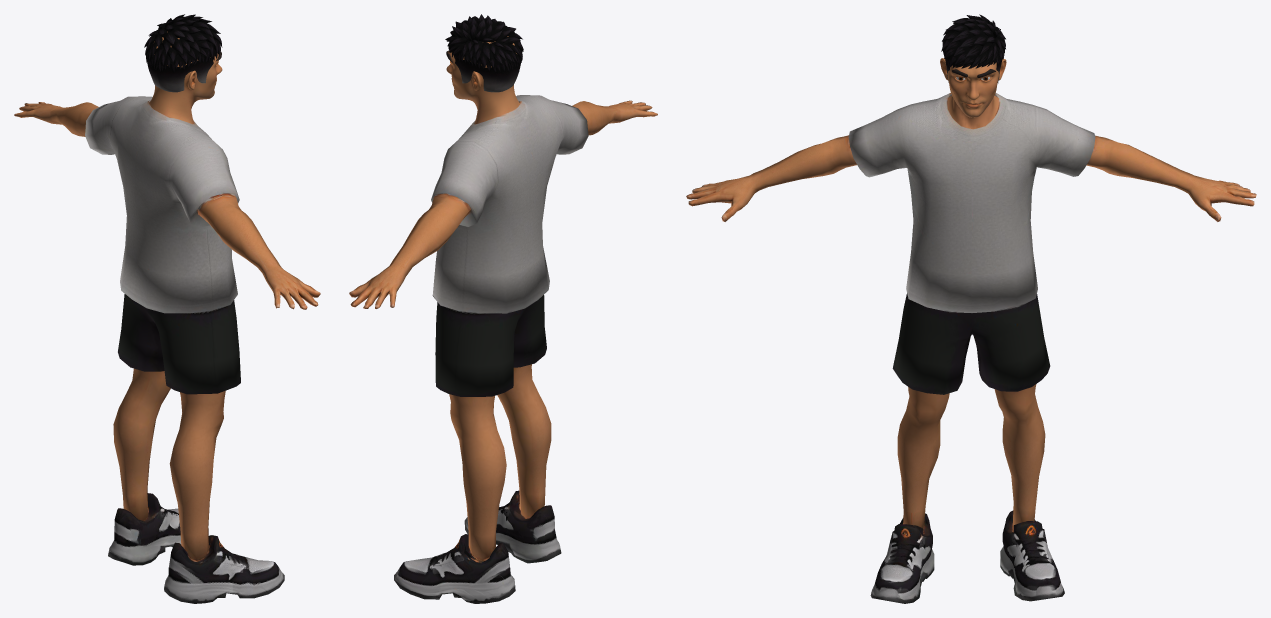
File: people_1785471786.glb
The picture shows the model from 3 angles, left to right: view 1: azimuth 30°, elevation 25°; view 2: azimuth 150°, elevation 25°; view 3: azimuth 270°, elevation 25°; orthographic projection. The views are drawn at different scales.
Parts seen in each view (by area): view 1: body, hair, head; view 2: body, hair, head; view 3: body, head, hair.
Part boxes in pixels (left/top/right/bottom): body: left=14, top=96, right=320, bottom=603; hair: left=144, top=14, right=222, bottom=92; head: left=149, top=31, right=222, bottom=123; body: left=349, top=95, right=657, bottom=603; hair: left=445, top=14, right=523, bottom=92; head: left=446, top=36, right=519, bottom=124; body: left=686, top=93, right=1256, bottom=603; head: left=940, top=58, right=1006, bottom=129; hair: left=941, top=14, right=1005, bottom=83.
Bounding box in the file's own units: 0.356 × 1.69 × 1.55.
Materials: 4 (4 with a texture image).
